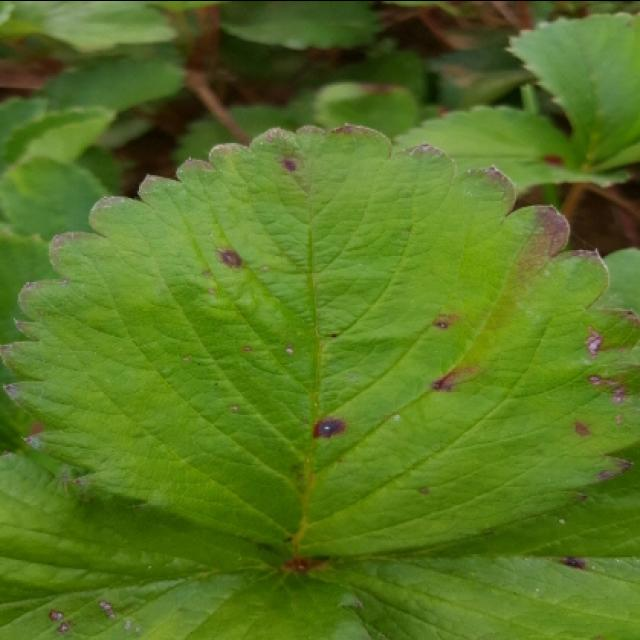Leaf Spot: (0, 121, 638, 556), (0, 449, 385, 638), (304, 443, 638, 638), (392, 103, 633, 199)
